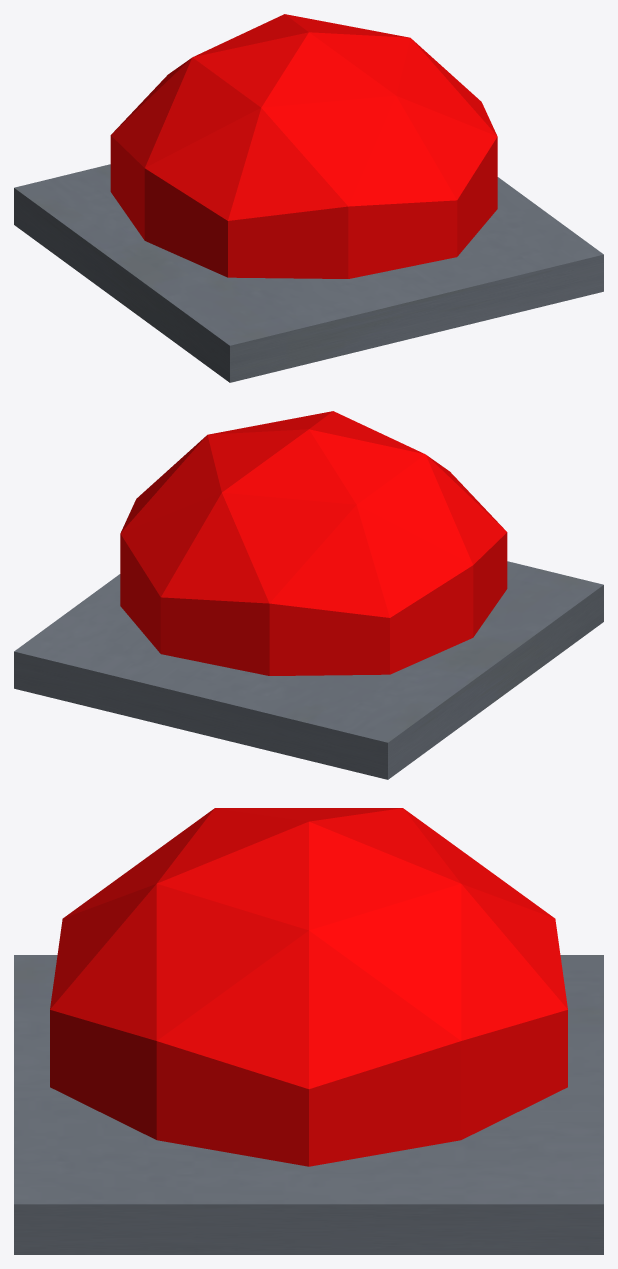
The model's file is button.fbx.
3 views of the same model, one above another, from view 1: azimuth 30°, elevation 25°; view 2: azimuth 150°, elevation 25°; view 3: azimuth 270°, elevation 25° (orthographic). The views are drawn at different scales.
Parts seen in each view (by area): view 1: Icosphere, Cube; view 2: Icosphere, Cube; view 3: Icosphere, Cube.
Boxes of the visible parts, x1=… form: Icosphere: x1=110, y1=14, x2=497, y2=278; Cube: x1=14, y1=164, x2=603, y2=382; Icosphere: x1=120, y1=411, x2=507, y2=675; Cube: x1=14, y1=561, x2=603, y2=779; Icosphere: x1=50, y1=808, x2=567, y2=1166; Cube: x1=14, y1=955, x2=603, y2=1254.
Size of the model in its own units: 13.22 by 7.63 by 13.22.
